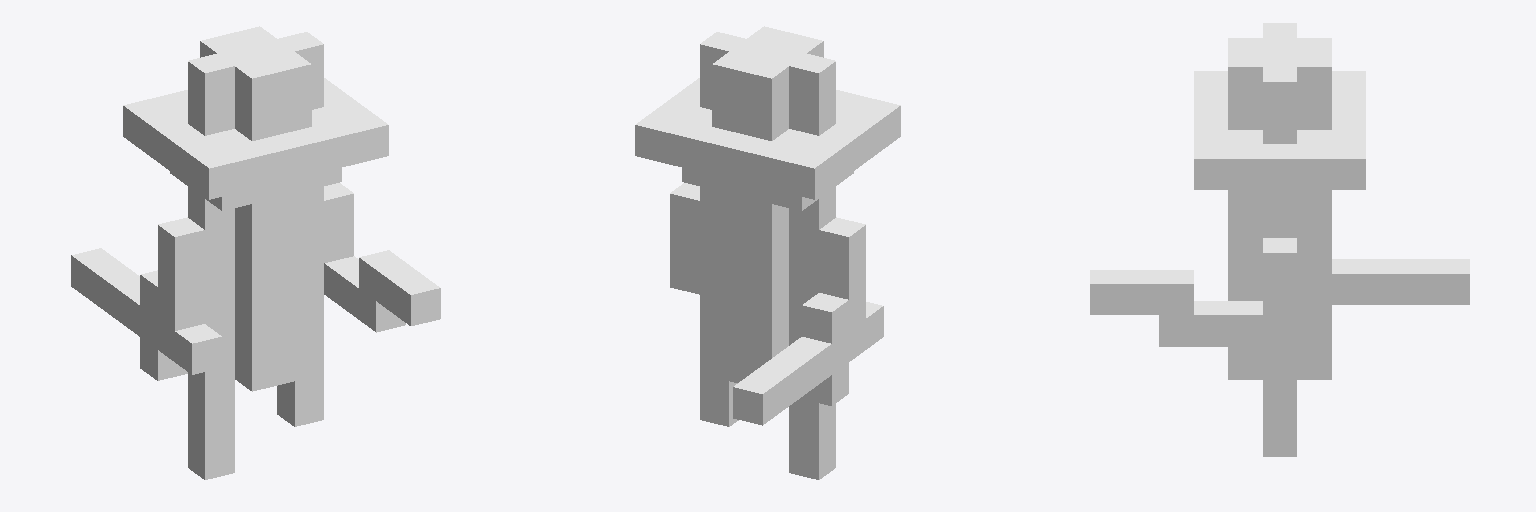
Rendered from walk_2.obj.
3 renders of one model, left to right at view 1: azimuth 30°, elevation 25°; view 2: azimuth 150°, elevation 25°; view 3: azimuth 270°, elevation 25°, orthographic.
Bounding box in the file's own units: 6 × 13 × 11.